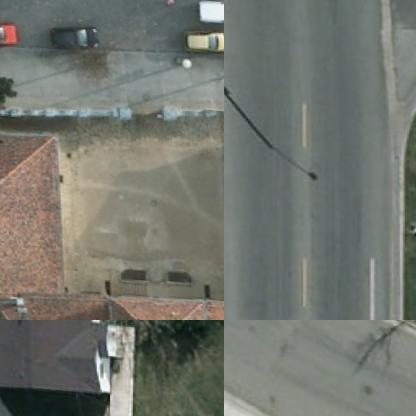car: (45, 21, 100, 53), (185, 22, 223, 48), (0, 17, 18, 50), (200, 0, 223, 22)
